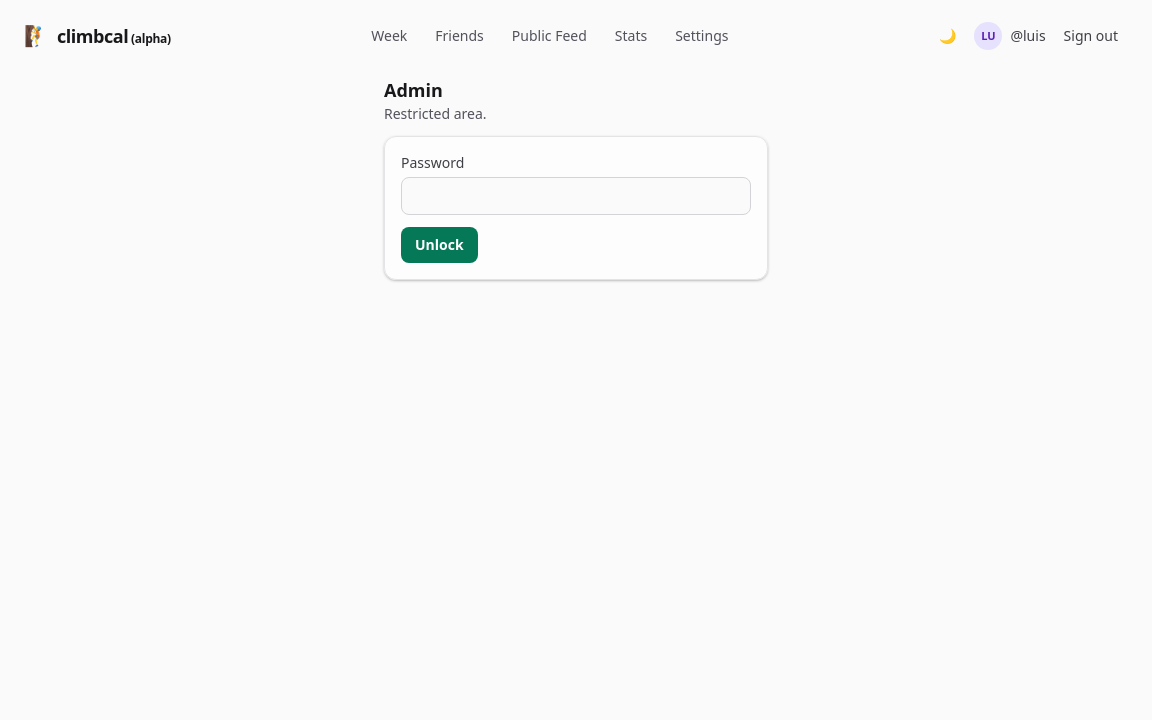
Scenario: <Admin /> › deletes a gym once the confirmation is accepted
Type "ilikepie" into the password field labelled "Password" at coordinates (576, 196), box [401,177,751,215]
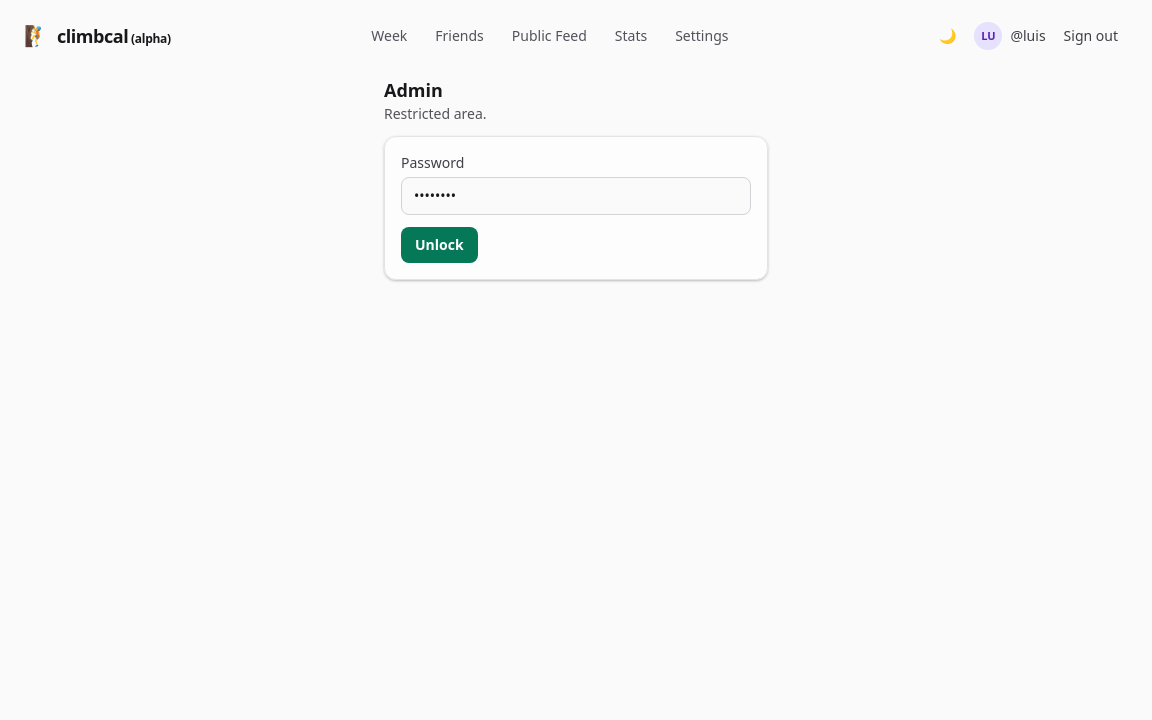
Click the button "Unlock" at coordinates (439, 245), box [401,227,478,263]
(page scrolled)
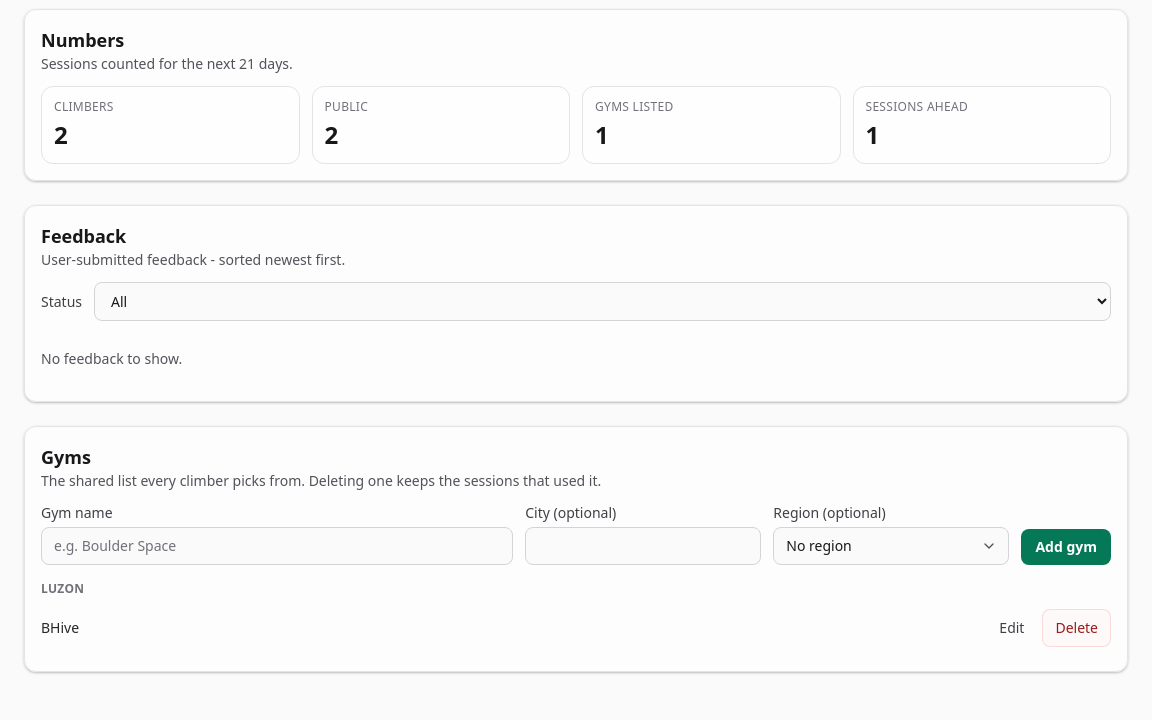
Click the button "Delete" at coordinates (1077, 628), box [1042,609,1111,647]
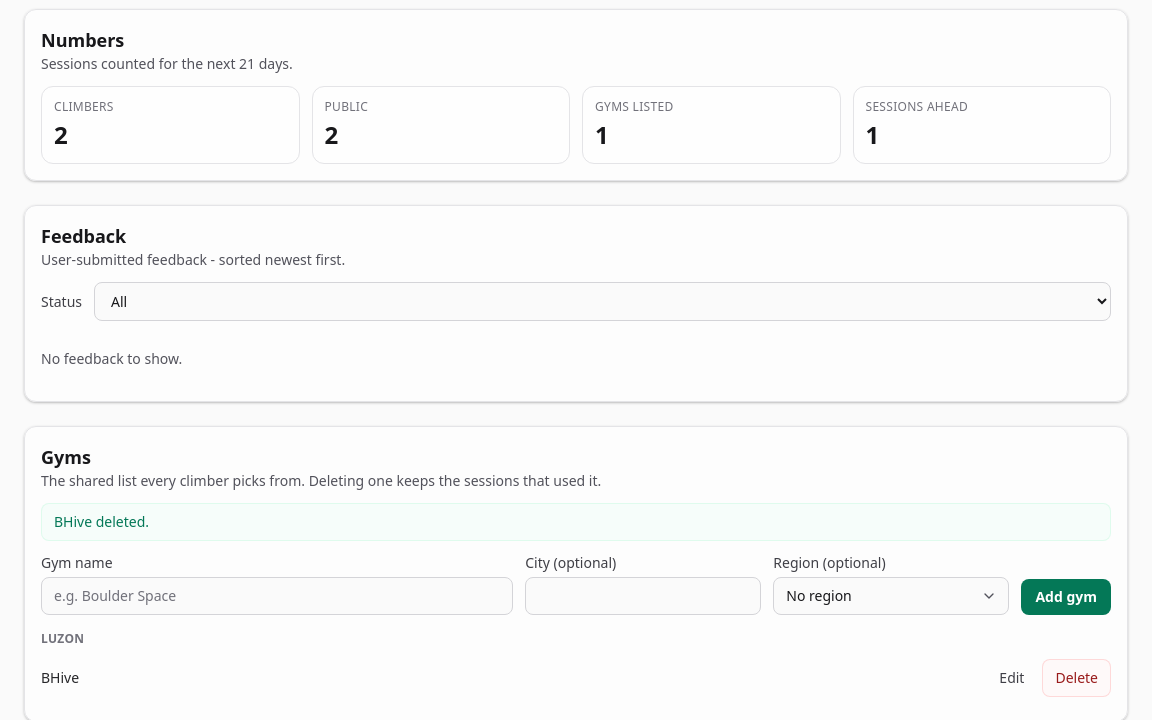
Check: the text "BHive deleted." is shown, box [41,503,1111,541]
